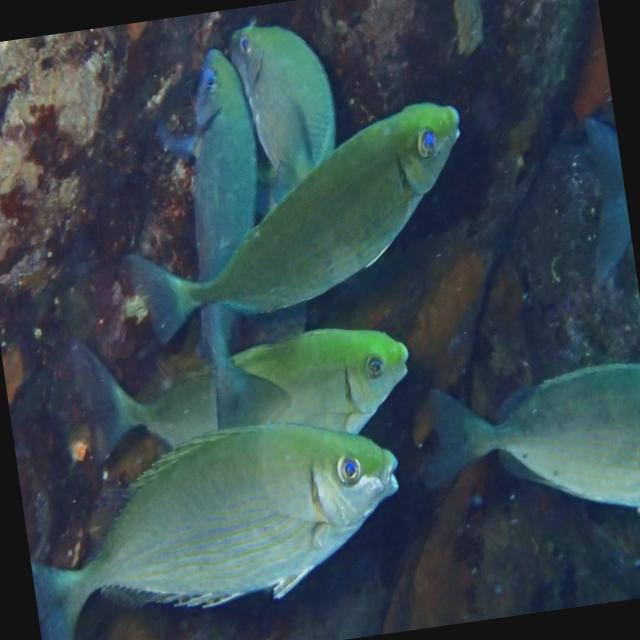Sokar Baligi: (109, 80, 496, 358), (16, 400, 430, 640)
